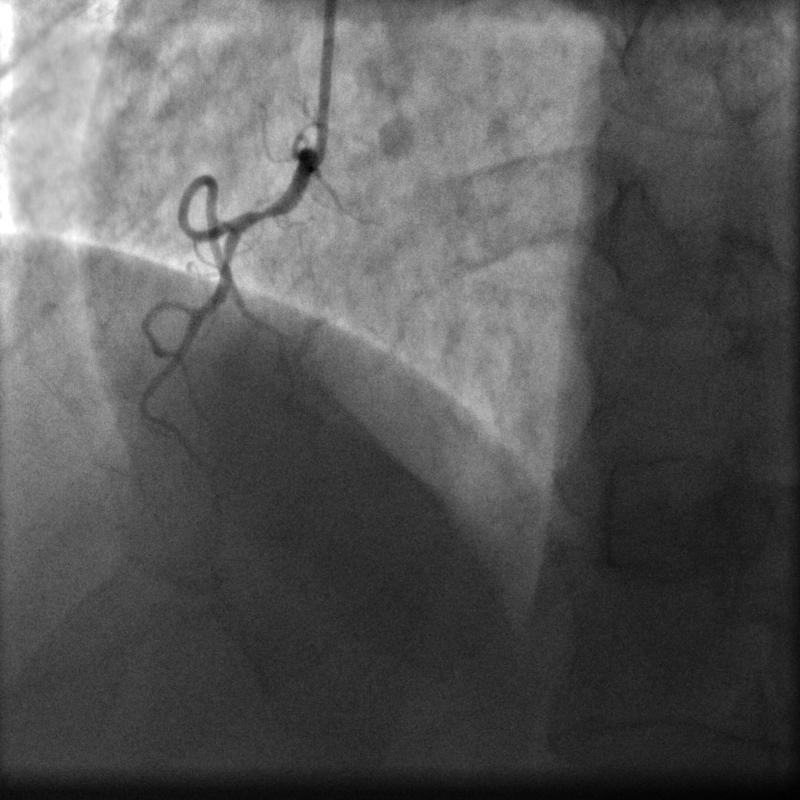Stenosis: (238, 197, 282, 233)
